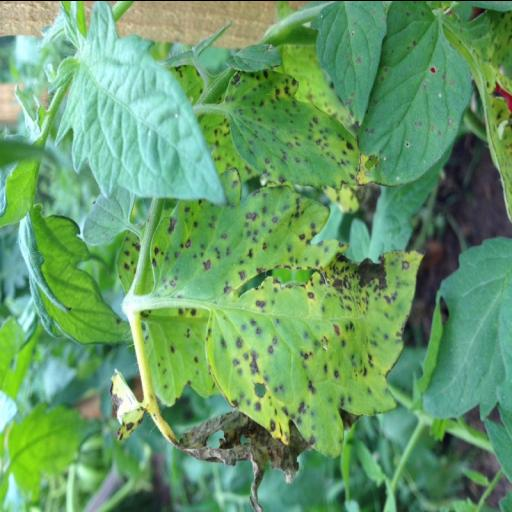disease_tomato: (130, 166, 428, 460), (350, 0, 476, 197), (305, 0, 391, 126)
